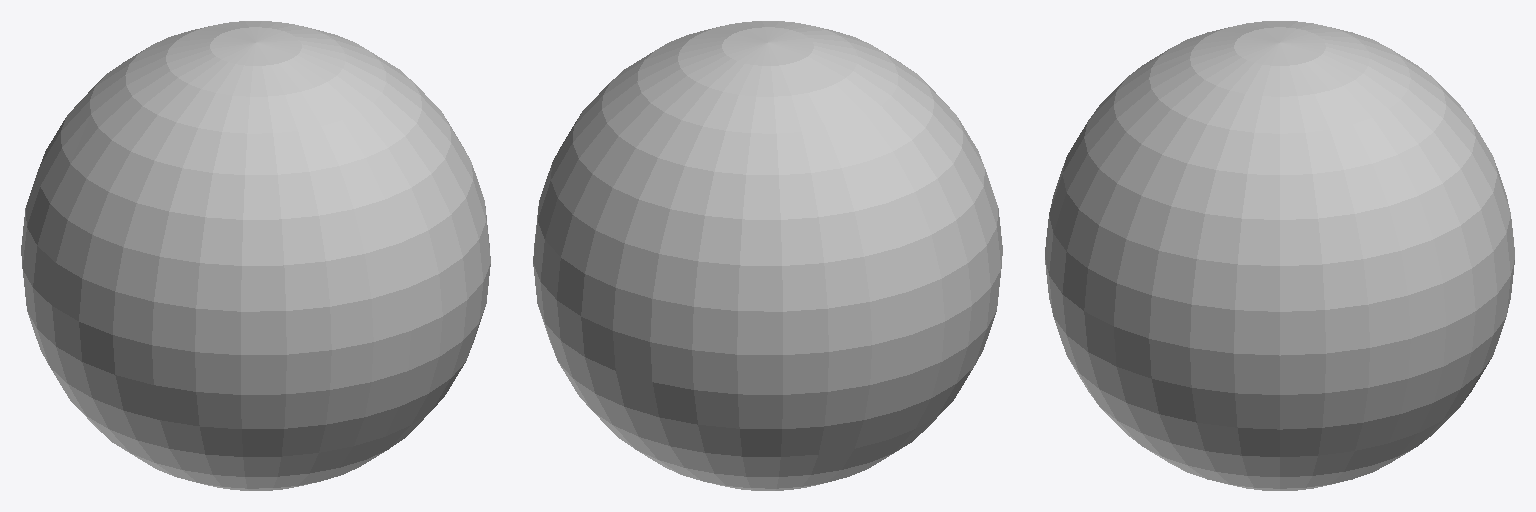
The model's file is mars.obj.
3 renders of one model, left to right at view 1: azimuth 30°, elevation 25°; view 2: azimuth 150°, elevation 25°; view 3: azimuth 270°, elevation 25°, orthographic.
Parts seen in each view (by area): view 1: Сфера; view 2: Сфера; view 3: Сфера.
Boxes of the visible parts, <box> form: Сфера: <box>21,21,490,490</box>; Сфера: <box>533,21,1002,490</box>; Сфера: <box>1045,21,1514,490</box>.
Size of the model in its own units: 0.3192 by 0.3192 by 0.3192.